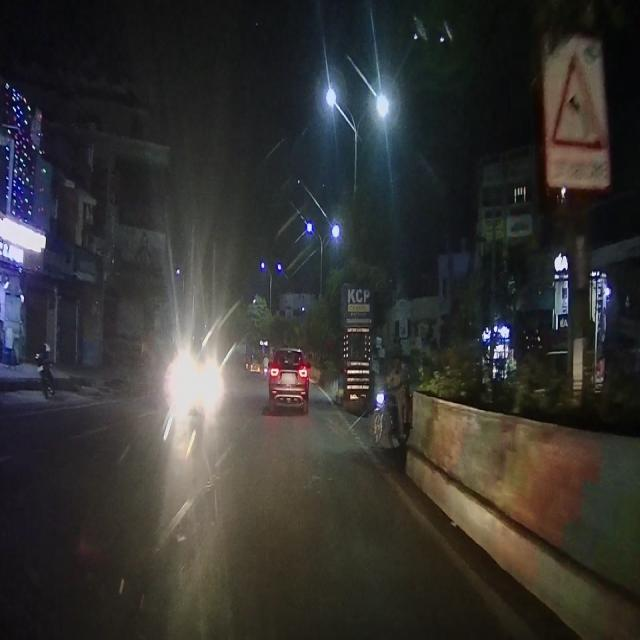left-hand-curve: (546, 38, 611, 191)
